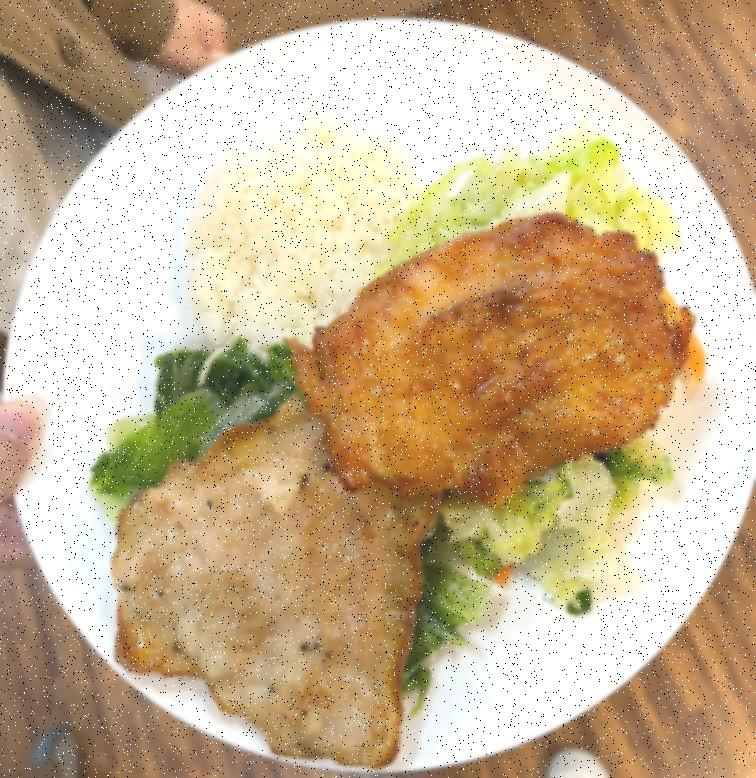big fried chicken leg: (0, 20, 754, 767)
big herbal chicken leg: (185, 112, 422, 347)
braised fish fillet: (400, 130, 688, 590), (100, 337, 464, 676)
braised pork: (107, 422, 439, 763), (286, 219, 670, 494)
